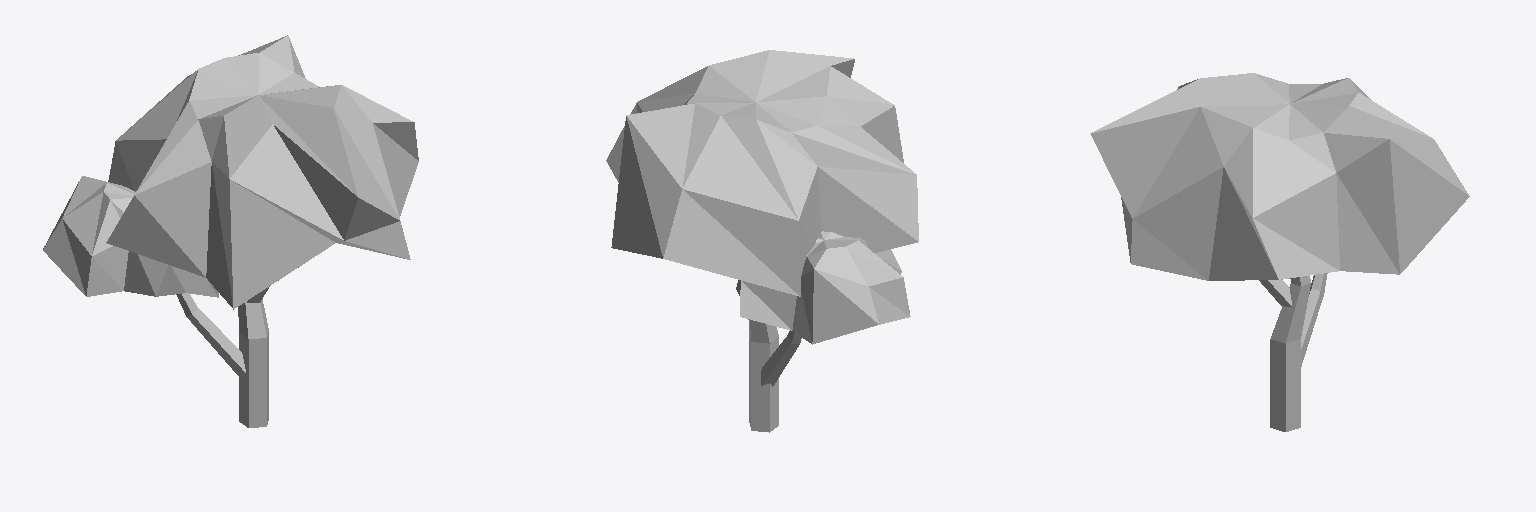
The model's file is Tree2.obj.
3 views of the same model, side by side, from view 1: azimuth 30°, elevation 25°; view 2: azimuth 150°, elevation 25°; view 3: azimuth 270°, elevation 25° (orthographic).
Parts seen in each view (by area): view 1: Tree2_trunks.001; view 2: Tree2_trunks.001; view 3: Tree2_trunks.001.
Boxes of the visible parts, x1=… form: Tree2_trunks.001: x1=43, y1=35, x2=418, y2=427; Tree2_trunks.001: x1=606, y1=50, x2=918, y2=432; Tree2_trunks.001: x1=1090, y1=73, x2=1469, y2=431.
Size of the model in its own units: 7.36 by 7.31 by 7.46.